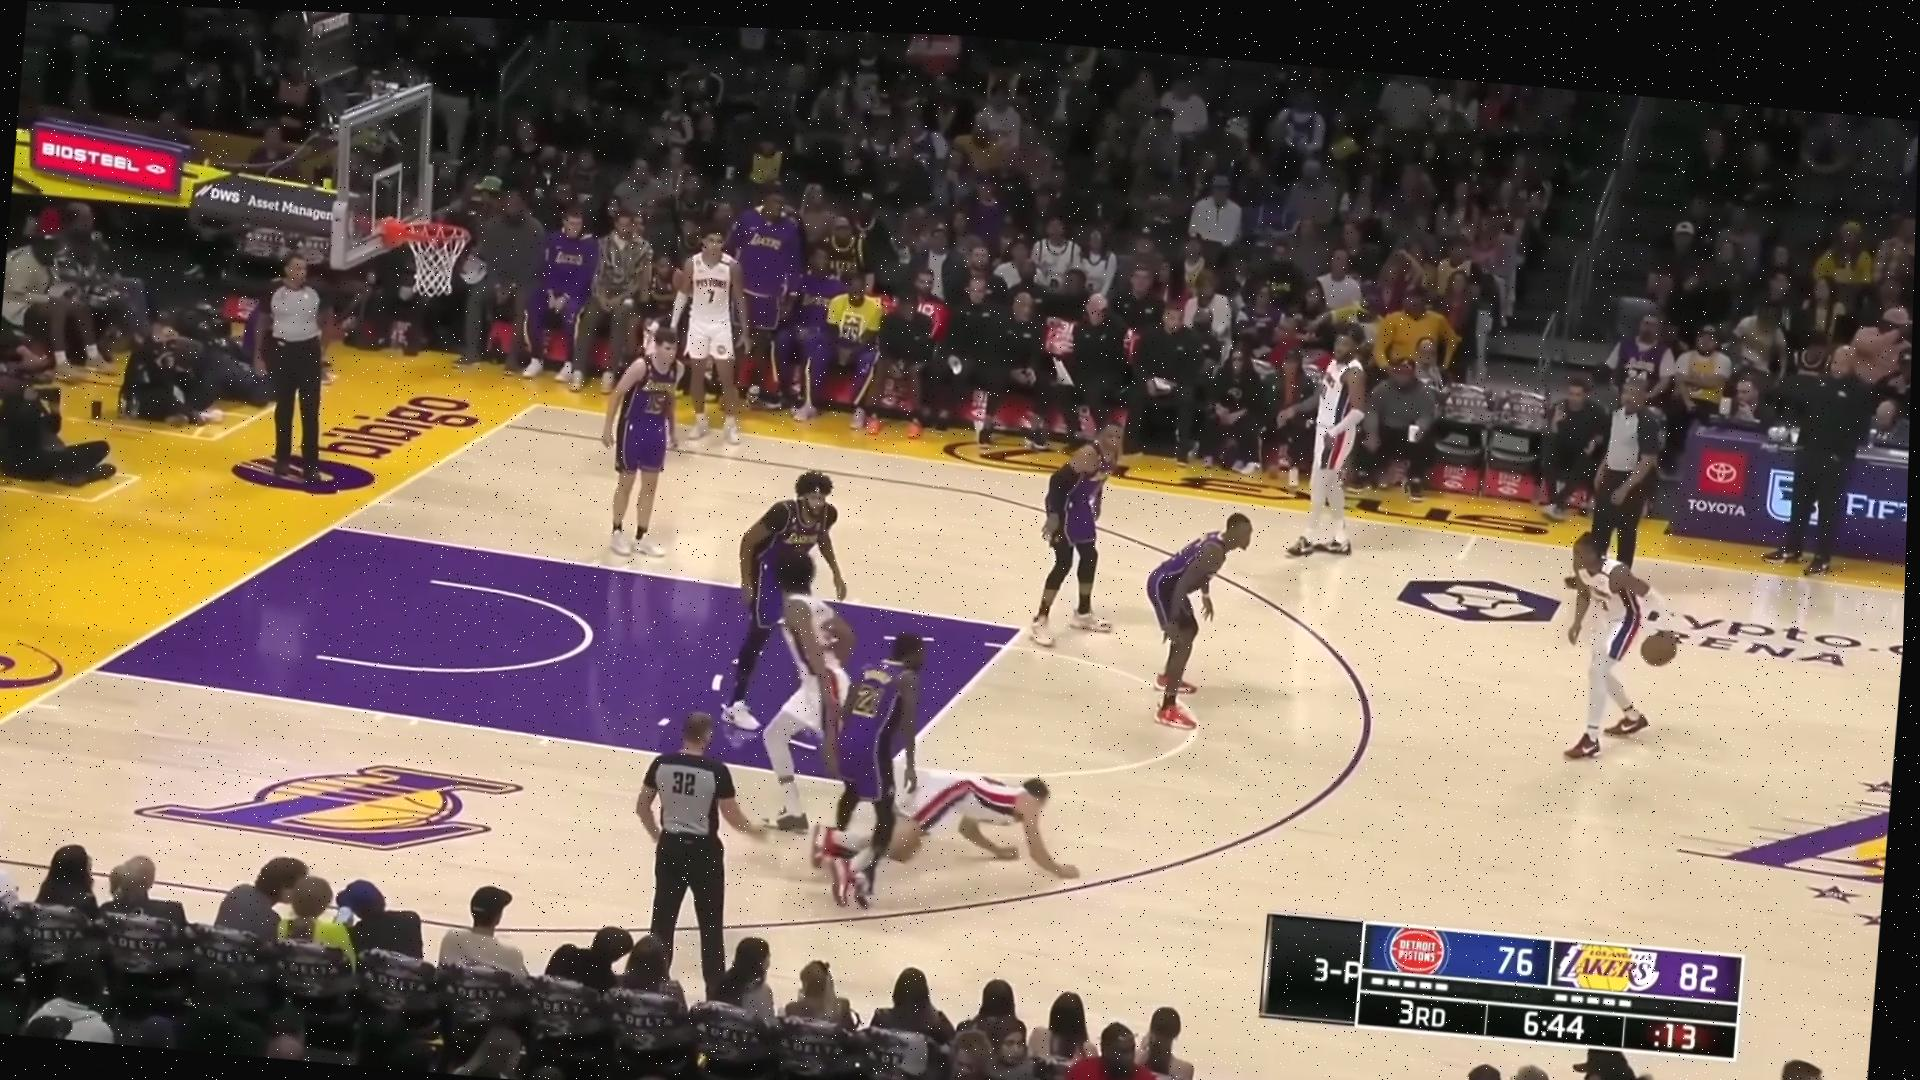foul: (793, 627, 1121, 931)
